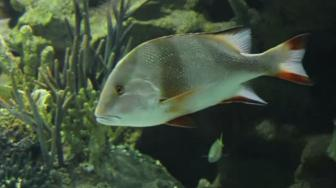Lutjanidae -Snappers-: (90, 22, 317, 132)
